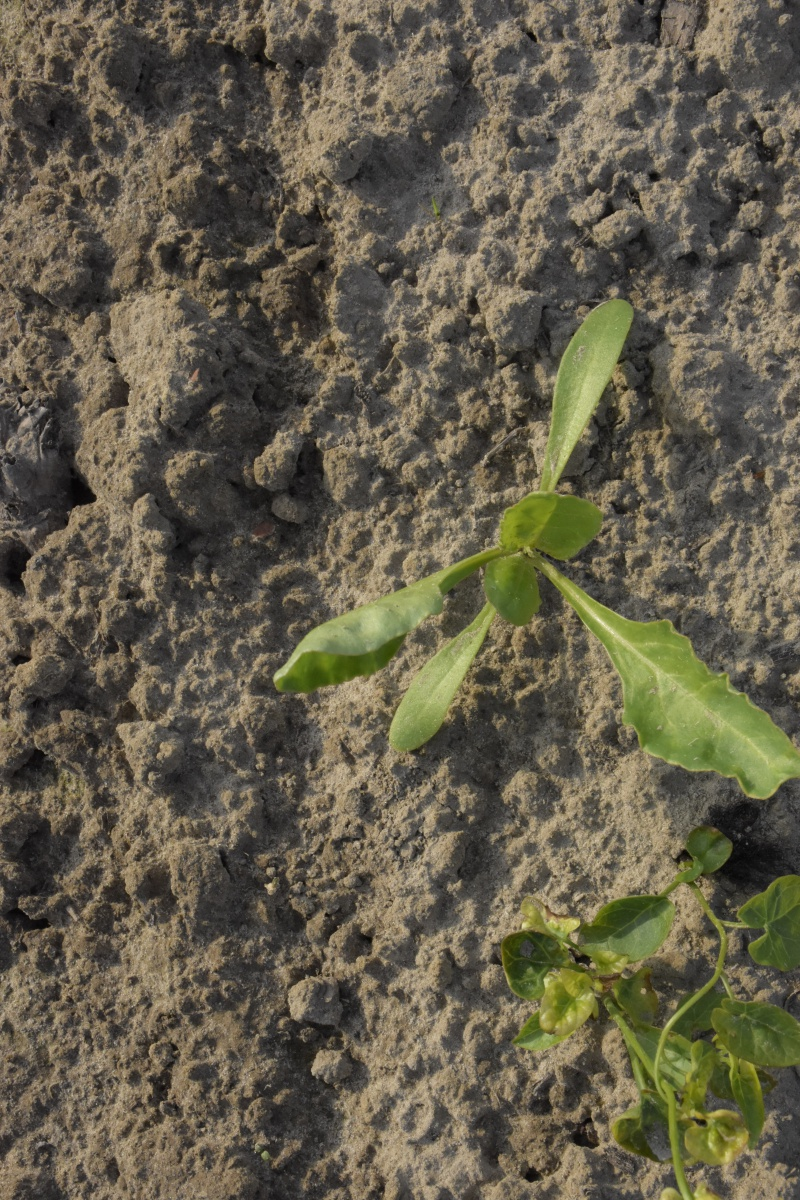field bindweed: (482, 833, 800, 1190)
sugar beet: (268, 295, 800, 817)
